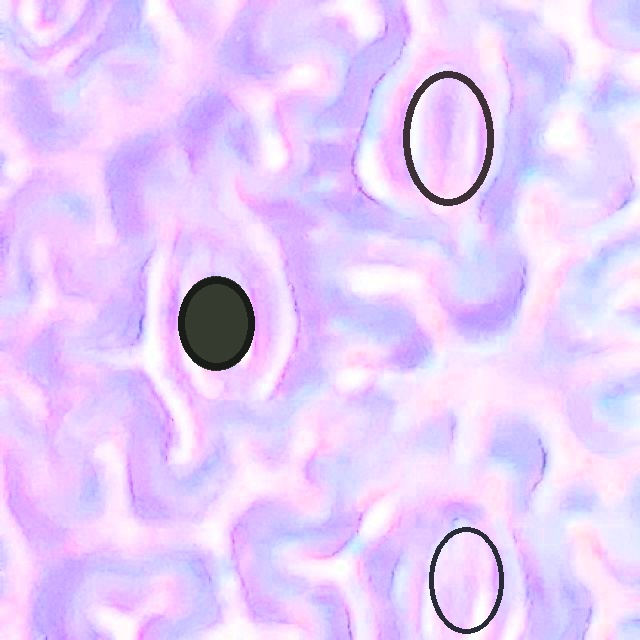close: (429, 526, 502, 634)
open: (401, 70, 494, 206), (178, 276, 253, 370)
